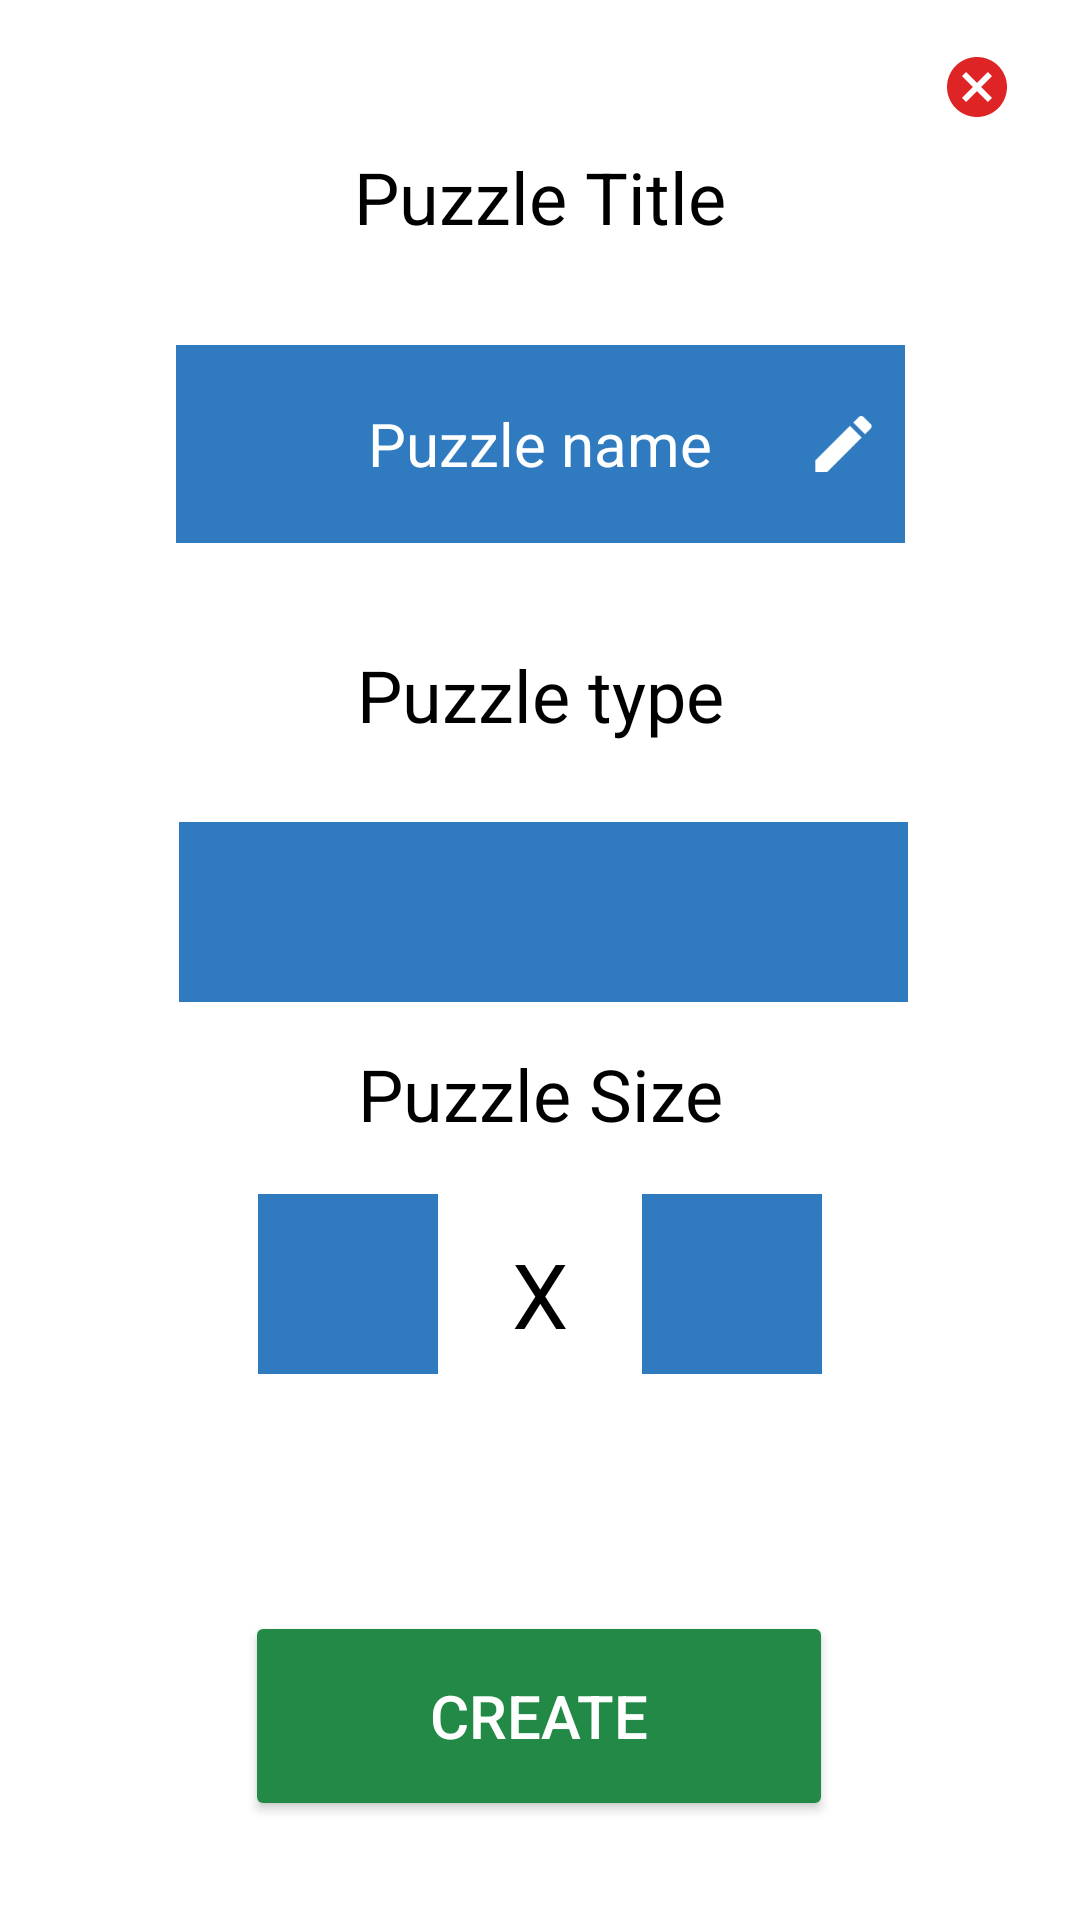

Screen size 1080px x 1920px. Icon name, then its box in pixels as (x1, y1, x2, y2):
cancel: (947, 57, 1007, 117)
edit: (815, 416, 872, 472)
